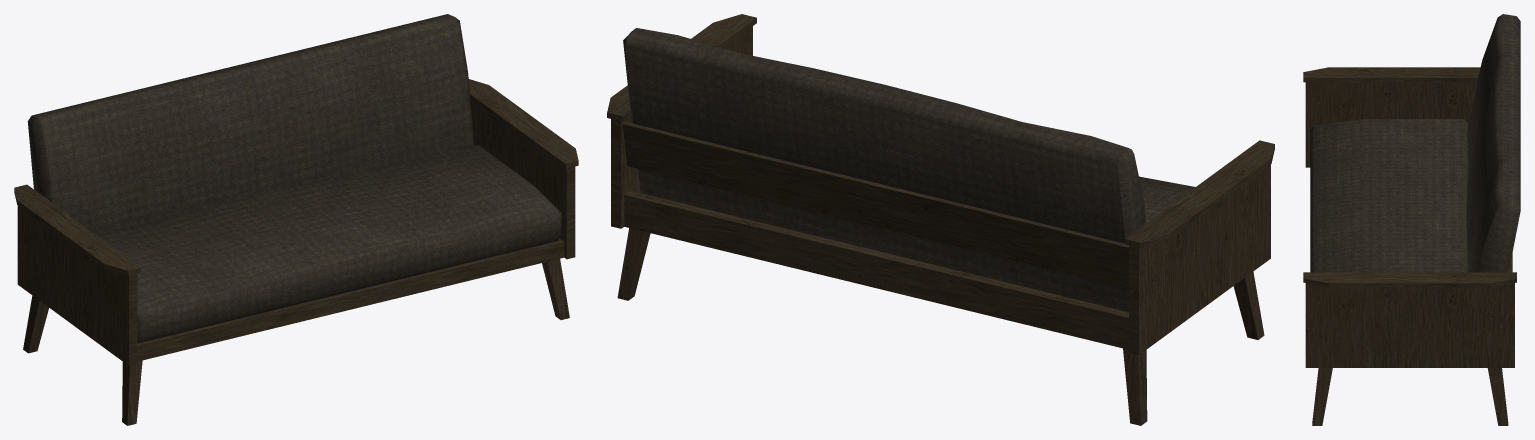
The model's file is sofa_4_3.obj.
3 renders of one model, left to right at view 1: azimuth 30°, elevation 25°; view 2: azimuth 150°, elevation 25°; view 3: azimuth 270°, elevation 25°, orthographic. The views are drawn at different scales.
Parts seen in each view (by area): view 1: sofa_4_3; view 2: sofa_4_3; view 3: sofa_4_3.
Part boxes in pixels (bbox=[...]): sofa_4_3: bbox=[14, 14, 578, 425]; sofa_4_3: bbox=[607, 14, 1274, 425]; sofa_4_3: bbox=[1303, 14, 1520, 425].
Bounding box in the file's own units: 2.2 × 1.03 × 0.9346.
